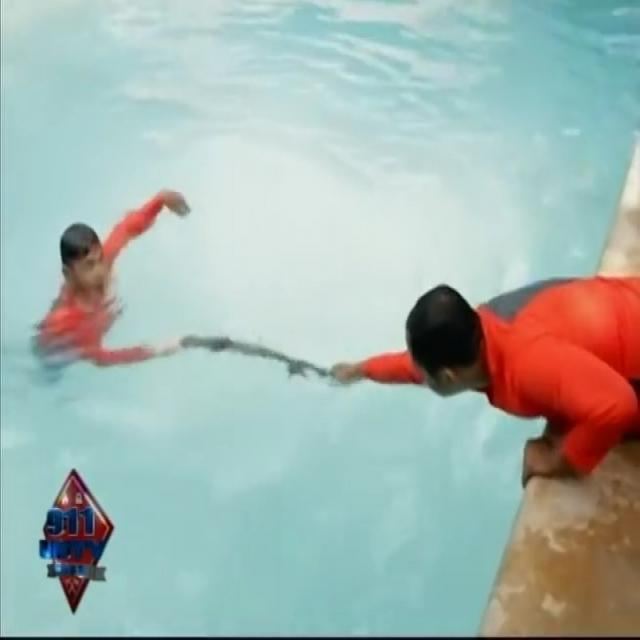drowning: (22, 180, 191, 423)
out of water: (323, 270, 640, 493)
